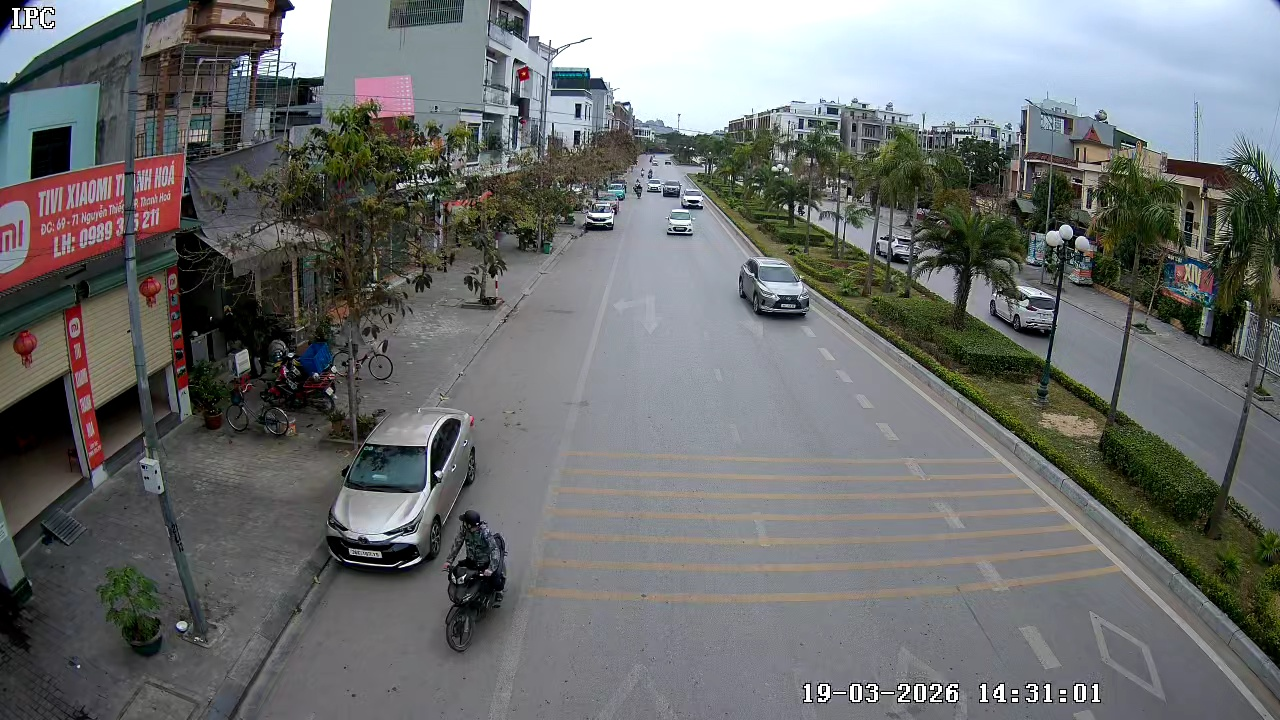bike: (340, 325, 396, 382)
car: (325, 406, 479, 570), (737, 257, 811, 317), (582, 202, 618, 232), (664, 206, 694, 238), (676, 186, 704, 211), (662, 177, 679, 196), (645, 176, 662, 194)
motorbike: (441, 508, 510, 652)
